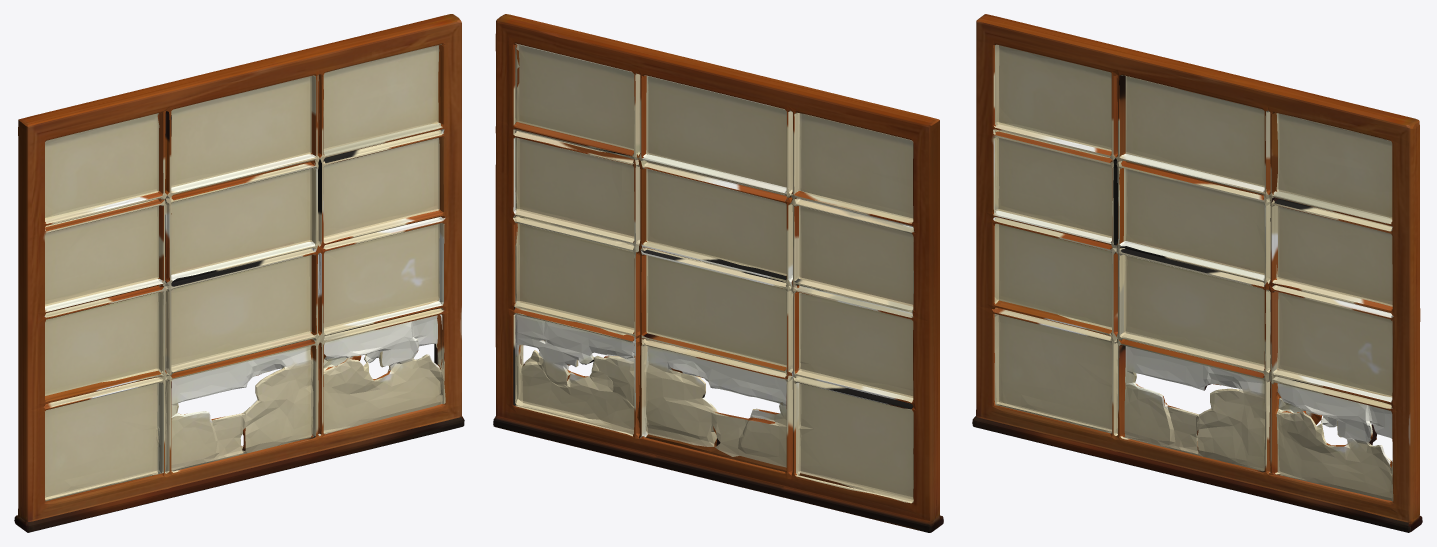
The model's file is traveler_env_coast_smooth_iuchi_storm_shoji_00001_.glb.
3 views of the same model, side by side, from view 1: azimuth 30°, elevation 25°; view 2: azimuth 150°, elevation 25°; view 3: azimuth 330°, elevation 25° (orthographic).
Visible parts, largest first — view 1: temp_mesh.ply; view 2: temp_mesh.ply; view 3: temp_mesh.ply.
Boxes of the visible parts, bbox=[...] form: temp_mesh.ply: bbox=[14, 14, 464, 532]; temp_mesh.ply: bbox=[493, 14, 943, 532]; temp_mesh.ply: bbox=[972, 14, 1422, 532].
Size of the model in its own units: 1.98 by 1.75 by 0.1068.
1 material, 1 textured.
